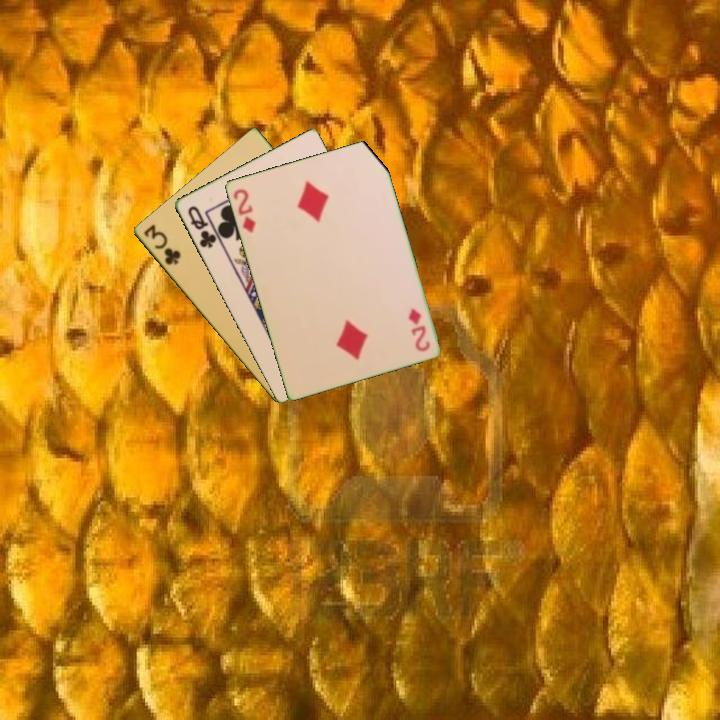2d: (229, 185, 258, 235), (404, 304, 433, 354)
3c: (139, 221, 183, 268)
Qc: (184, 202, 219, 251)
